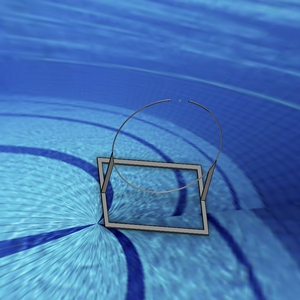circle: (94, 95, 225, 237)
